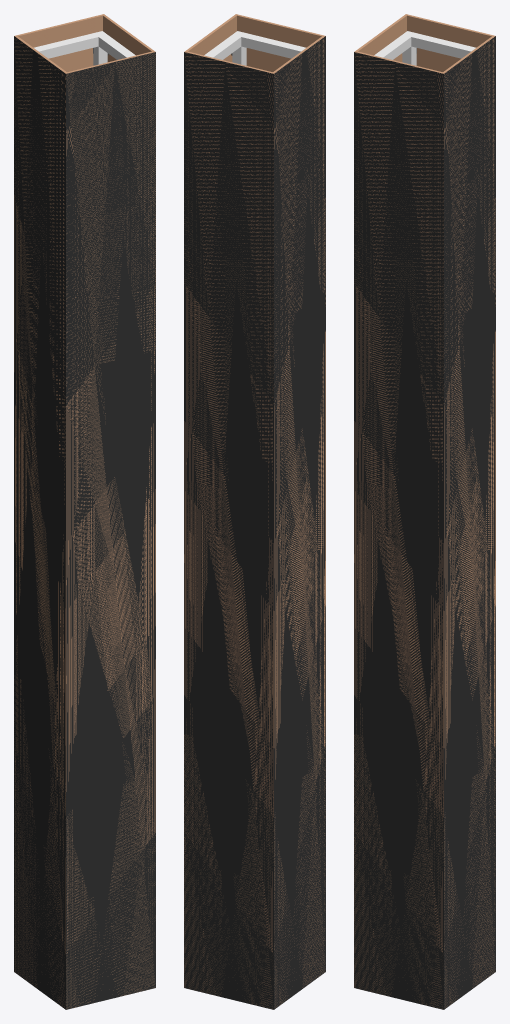
Rendered from wandering-pillar-model.dae.
3 renders of one model, left to right at view 1: azimuth 30°, elevation 25°; view 2: azimuth 150°, elevation 25°; view 3: azimuth 330°, elevation 25°, orthographic.
Visible parts, largest first — view 1: Component_32 (×4), Component_5 (×2); view 2: Component_32 (×4), Component_5 (×2); view 3: Component_32 (×4), Component_5 (×2).
Part boxes in pixels (<box>): Component_32 (×4): <box>14,14,155,1009</box>; Component_5 (×2): <box>34,33,135,59</box>; Component_32 (×4): <box>184,14,325,1009</box>; Component_5 (×2): <box>204,33,305,59</box>; Component_32 (×4): <box>354,14,495,1009</box>; Component_5 (×2): <box>374,33,475,59</box>.
Size of the model in its own units: 11.69 by 11.69 by 117.
